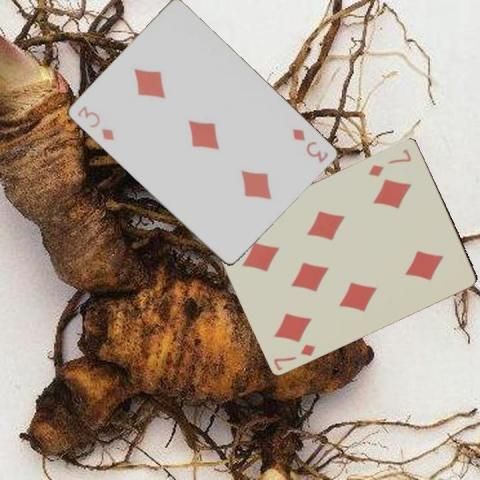3d: (74, 103, 115, 142), (289, 125, 329, 164)
7d: (365, 146, 414, 178), (271, 341, 317, 371)
